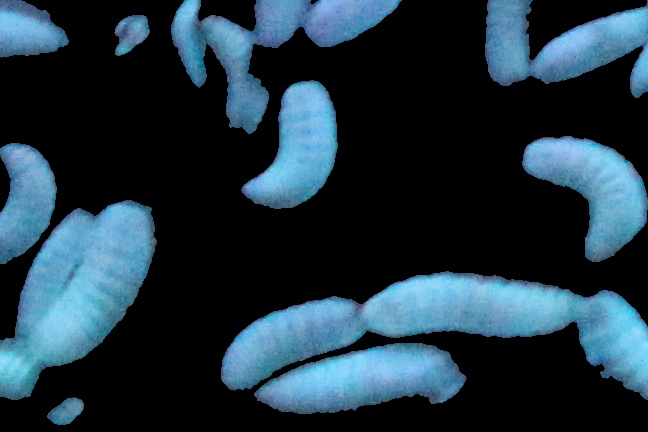larvae: (44, 202, 157, 357), (255, 334, 468, 413), (520, 135, 646, 263), (364, 269, 576, 336), (219, 299, 371, 390), (240, 78, 337, 210), (12, 208, 93, 340), (201, 13, 274, 140), (531, 9, 647, 84), (573, 287, 647, 399), (1, 140, 55, 265), (297, 1, 400, 57), (483, 1, 540, 86)
